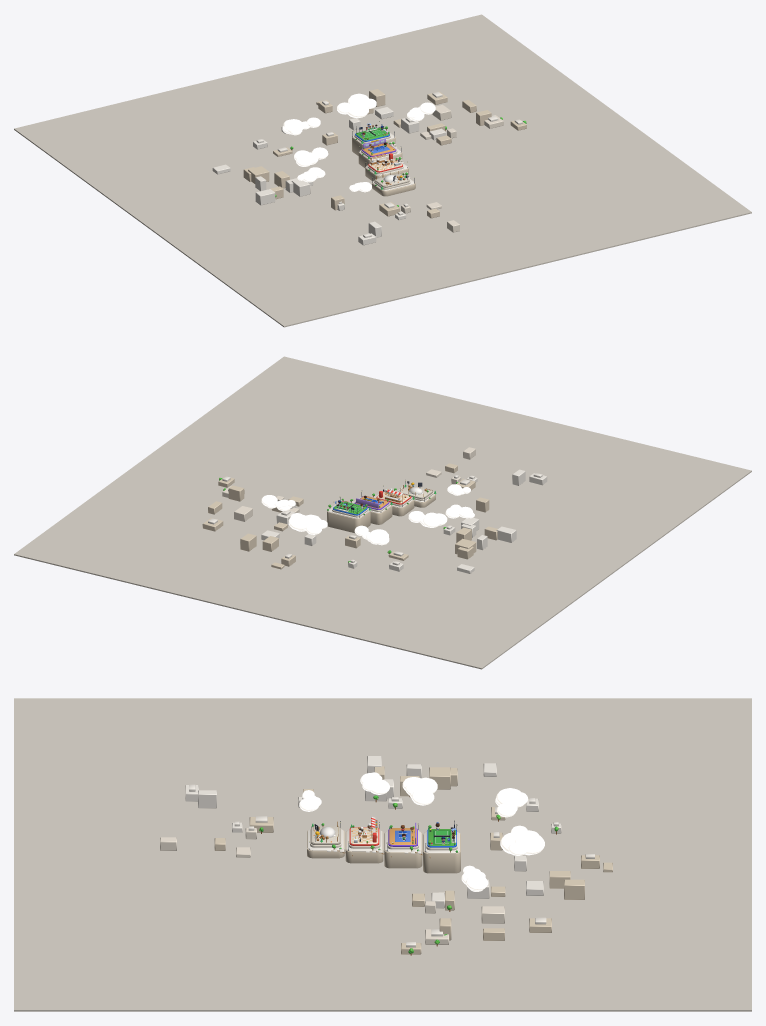
File: menu.glb
3 views of the same model, one above another, from view 1: azimuth 30°, elevation 25°; view 2: azimuth 150°, elevation 25°; view 3: azimuth 270°, elevation 25° (orthographic). The views are drawn at different scales.
Visible parts, largest first — view 1: env_city, env_clouds, environment; view 2: env_city, env_clouds, environment; view 3: env_city, env_clouds, environment.
Part boxes in pixels (bbox=[...]): env_city: bbox=[14, 14, 751, 327]; env_clouds: bbox=[282, 93, 435, 192]; environment: bbox=[352, 126, 415, 196]; env_city: bbox=[14, 356, 751, 669]; env_clouds: bbox=[261, 484, 474, 545]; environment: bbox=[327, 480, 436, 532]; env_city: bbox=[14, 698, 751, 1011]; env_clouds: bbox=[299, 772, 544, 891]; environment: bbox=[307, 821, 460, 873].
Size of the model in its own units: 80 by 4.89 by 80.
